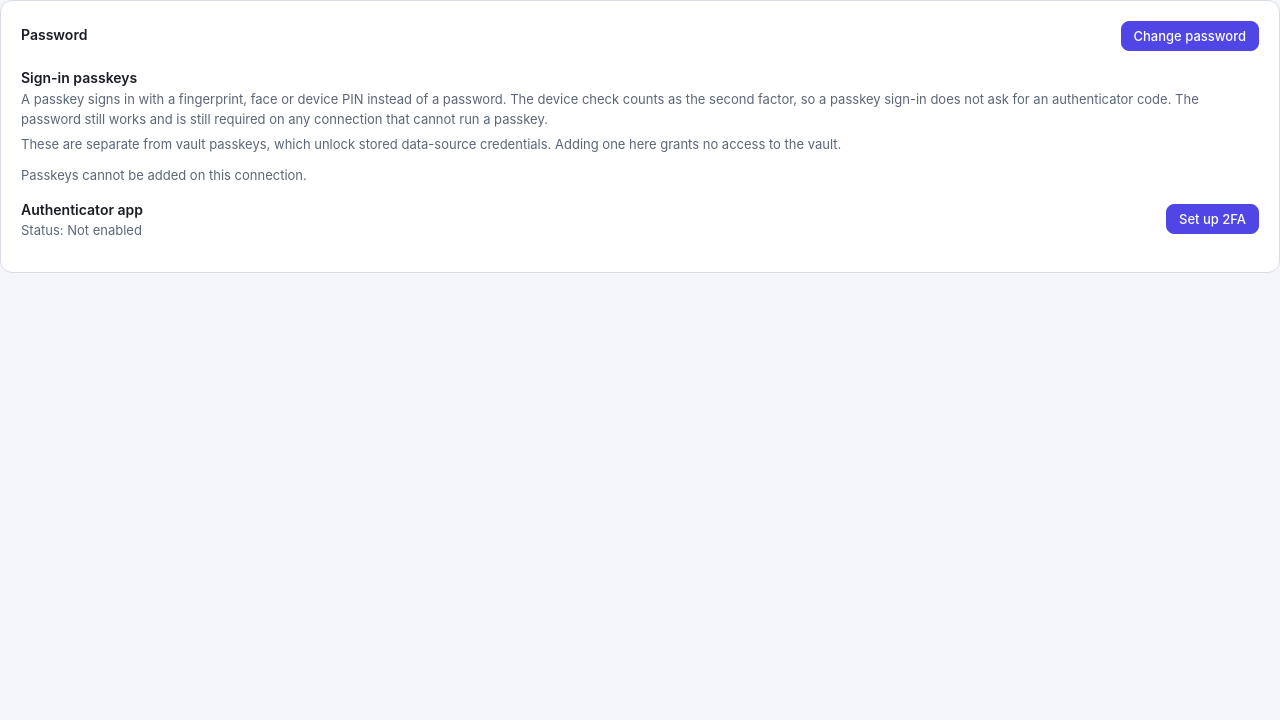
it: changing your own password › sends the current and the new password, then closes
Click the button "Change password".
click(1190, 36)  # box [1120,21,1259,51]
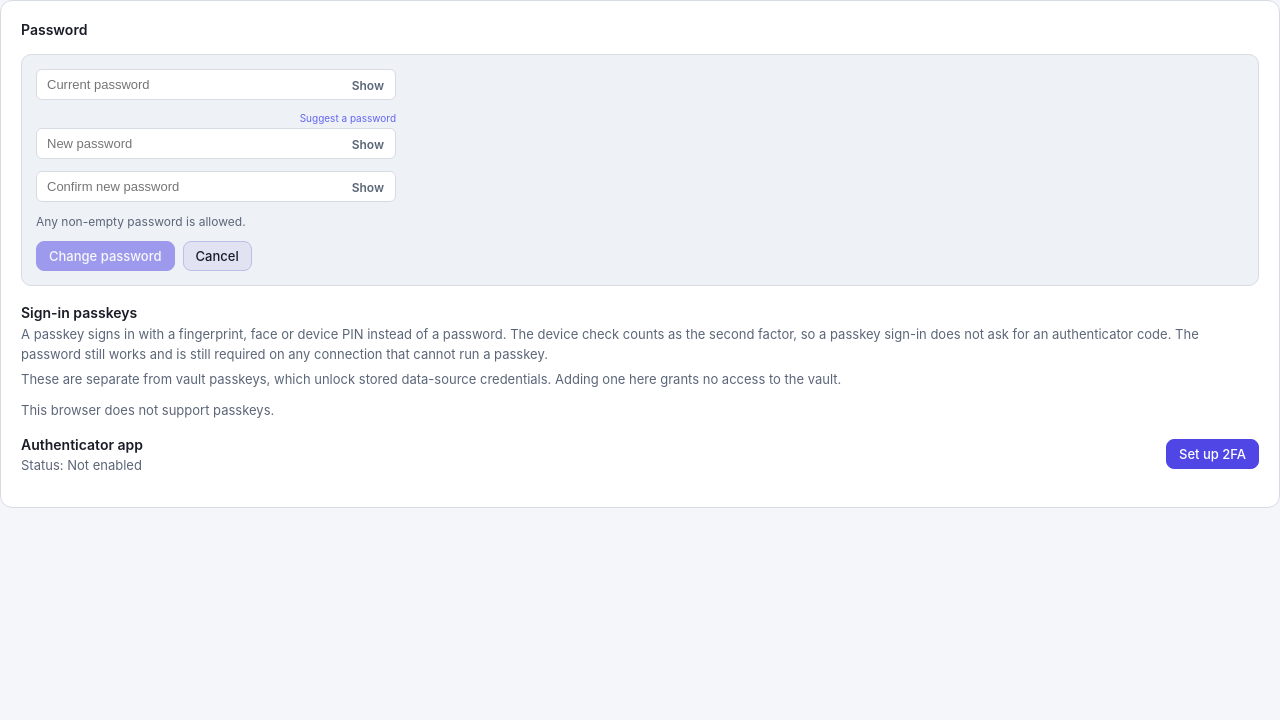
Type "the-old-one" into the password field labelled "Current password".
click(216, 84); type("the-old-one")  # box [36,69,396,100]
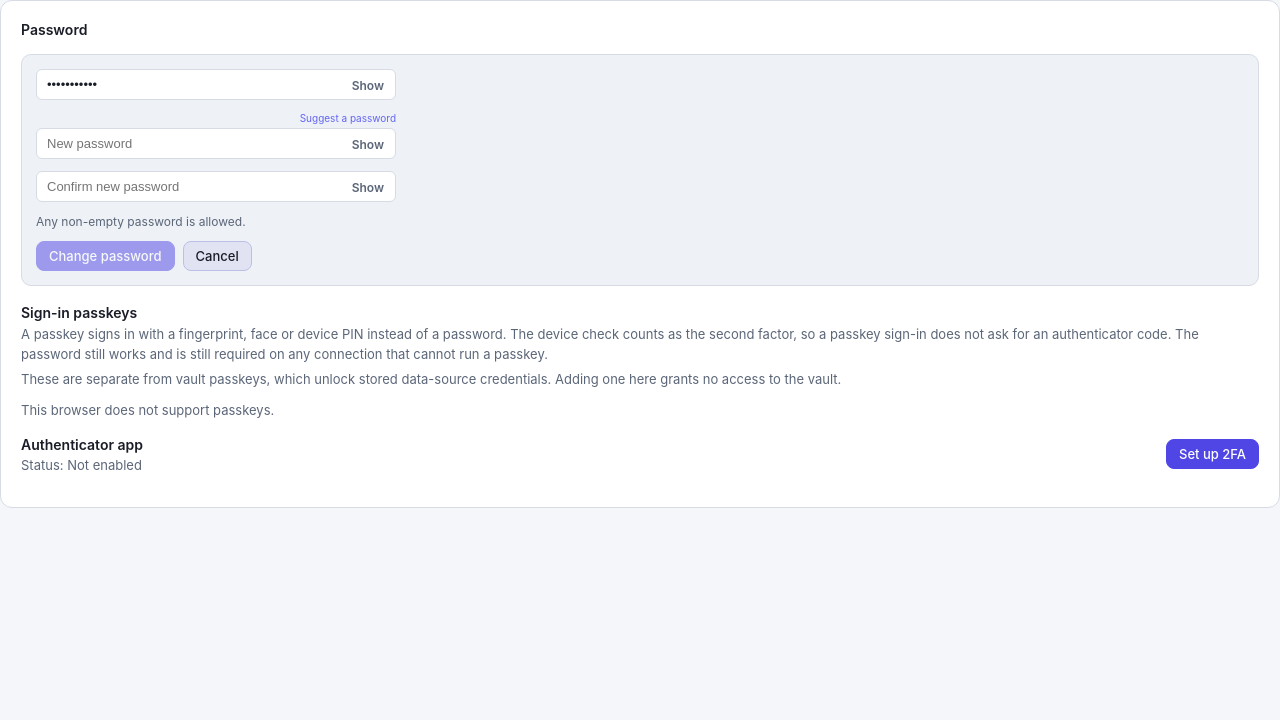
Type "the-new-one" into the password field labelled "New password".
click(216, 144); type("the-new-one")  # box [36,128,396,159]
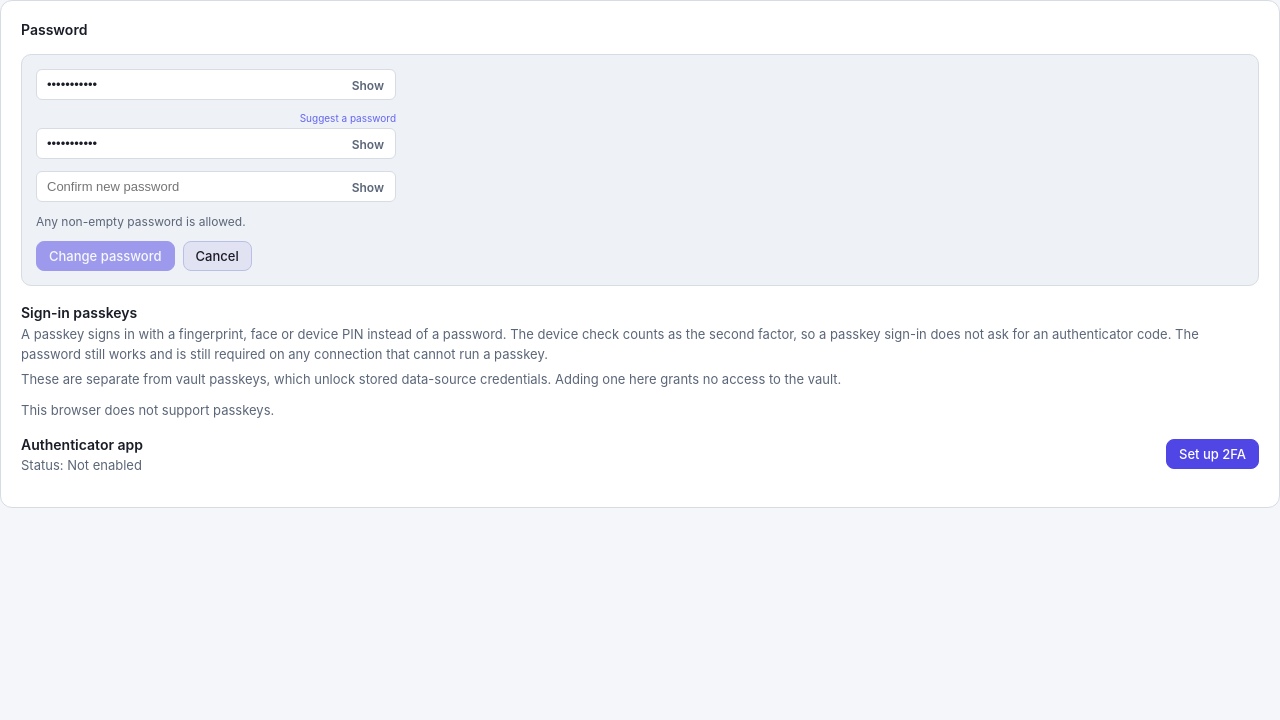
Type "the-new-one" into the password field labelled "Confirm new password".
click(216, 186); type("the-new-one")  # box [36,171,396,202]
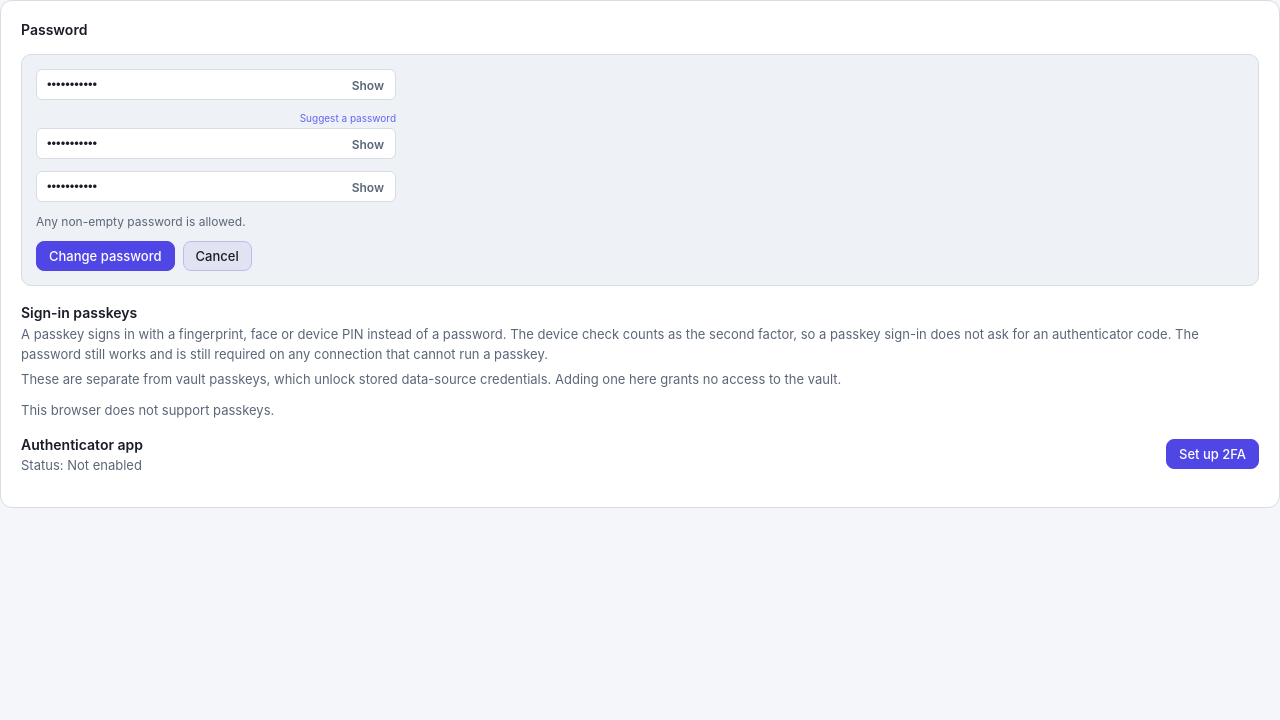
Click the button "Change password".
click(105, 256)  # box [36,241,174,271]
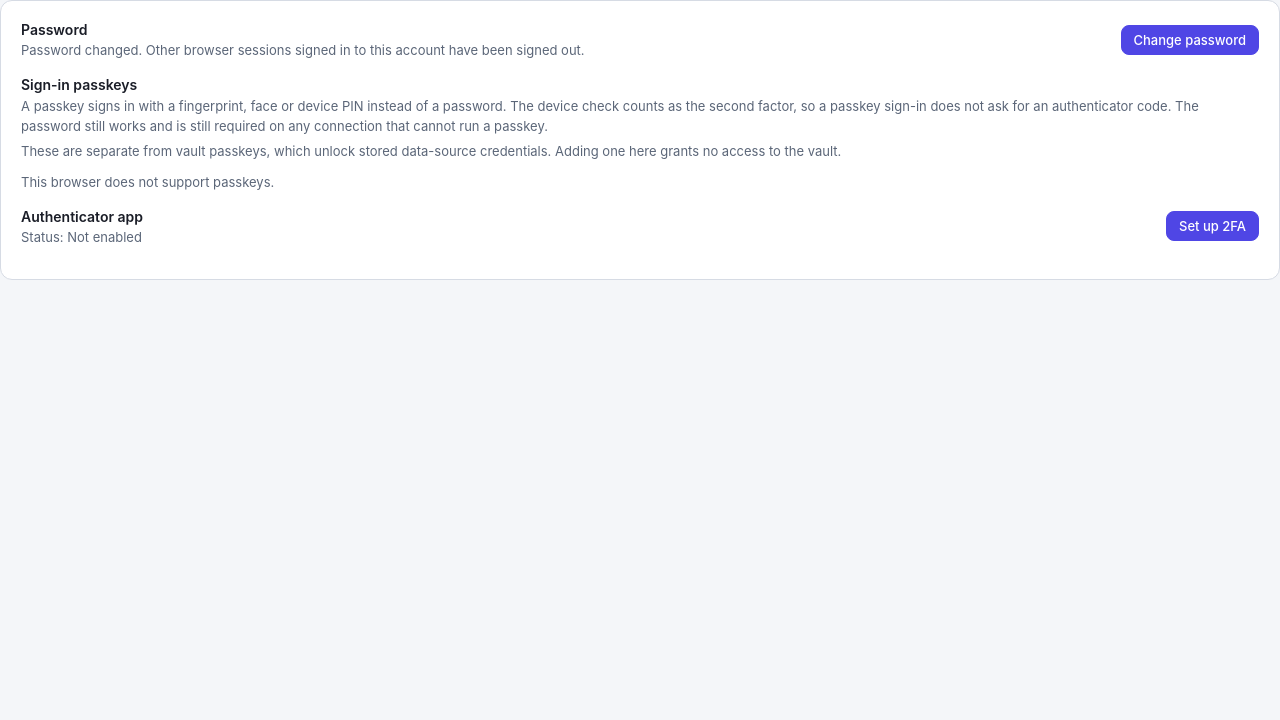
Check: the password field labelled "Current password" is gone
